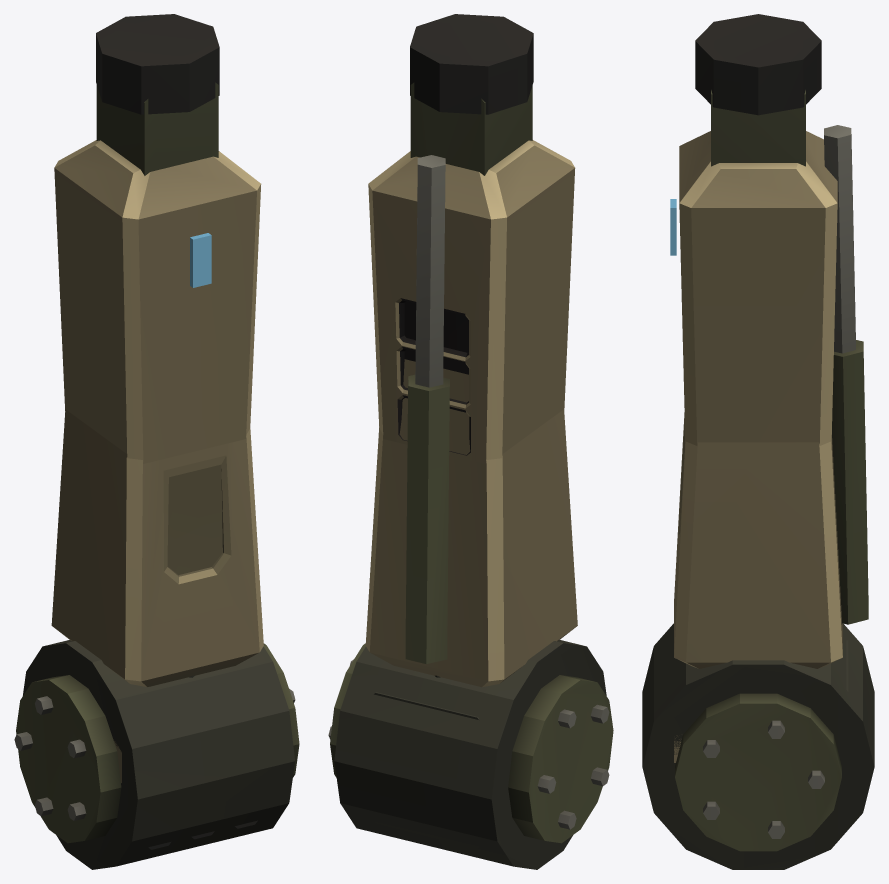
The model's file is arm-wildcat.glb.
The picture shows the model from 3 angles, left to right: view 1: azimuth 30°, elevation 25°; view 2: azimuth 150°, elevation 25°; view 3: azimuth 270°, elevation 25°; orthographic projection.
Visible parts, largest first — view 1: Fore_Mesh, Upper_Mesh, Joint_Mesh; view 2: Upper_Mesh, Fore_Mesh, Joint_Mesh, Hand_Mesh; view 3: Fore_Mesh, Upper_Mesh, Joint_Mesh.
Boxes of the visible parts, box(x1,y1,x2,y2) form: Fore_Mesh: box(54, 14, 261, 463); Upper_Mesh: box(51, 82, 263, 687); Joint_Mesh: box(14, 640, 299, 869); Upper_Mesh: box(365, 82, 577, 687); Fore_Mesh: box(368, 14, 575, 463); Joint_Mesh: box(328, 640, 613, 869); Hand_Mesh: box(374, 692, 478, 848); Fore_Mesh: box(670, 14, 837, 445); Upper_Mesh: box(674, 90, 868, 668); Joint_Mesh: box(642, 623, 874, 869).
Size of the model in its own units: 0.474 by 1.65 by 0.44.
